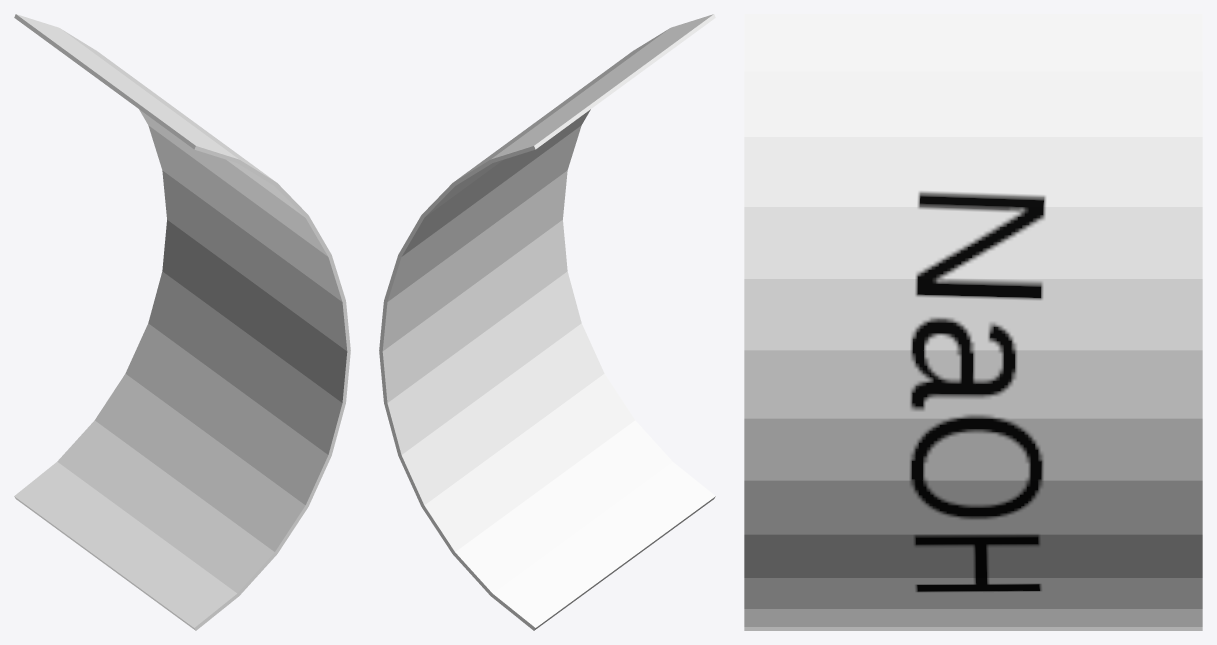
The model's file is Sodium Hydroxide etichetta.fbx.
The picture shows the model from 3 angles, left to right: view 1: azimuth 30°, elevation 25°; view 2: azimuth 150°, elevation 25°; view 3: azimuth 270°, elevation 25°; orthographic projection. The views are drawn at different scales.
Parts seen in each view (by area): view 1: Bottiglia base.001; view 2: Bottiglia base.001; view 3: Bottiglia base.001.
Boxes of the visible parts, x1,y1,x2,y2 form: Bottiglia base.001: (14, 14, 350, 630); Bottiglia base.001: (379, 14, 715, 630); Bottiglia base.001: (744, 14, 1202, 630).
Bounding box in the file's own units: 4.37 × 12.94 × 8.72.
